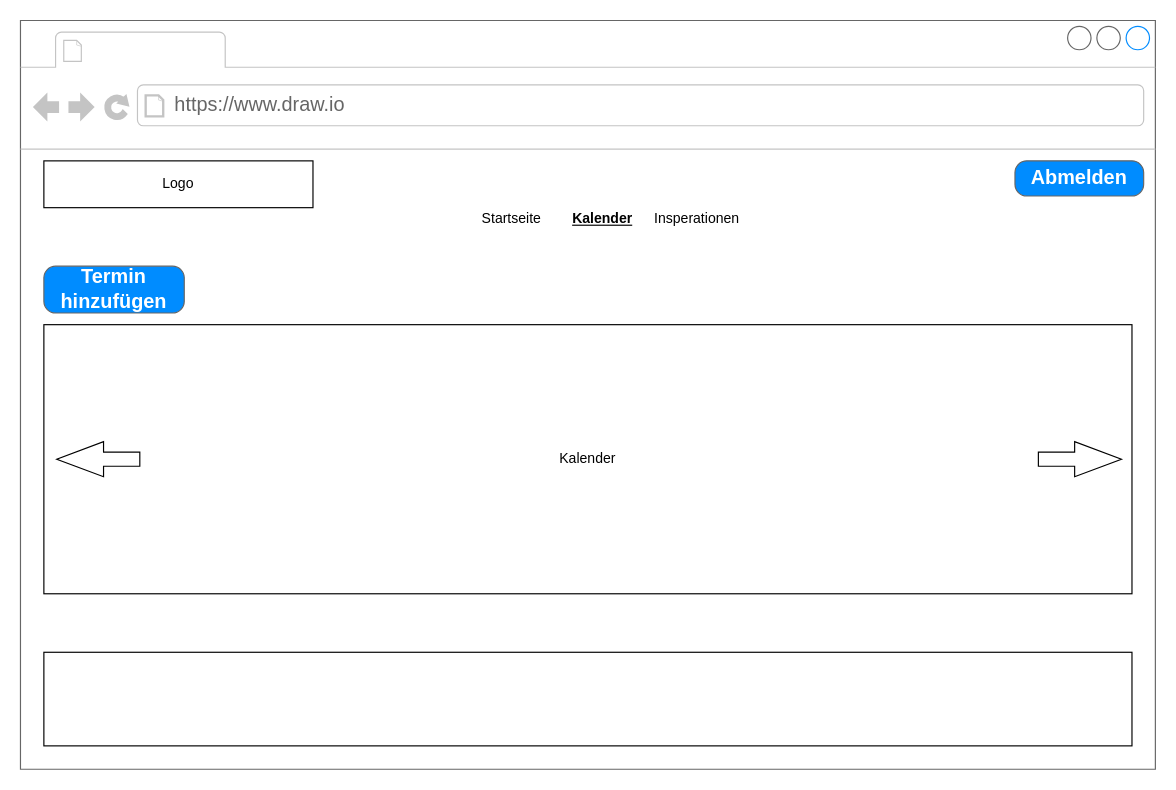
Some shapes in this 1176 by 790 pixel diagram are drawn without their labels. Each missing label, with the centre of its shape:
Footerbereich: point (587, 698)
Page 1: point (154, 49)
